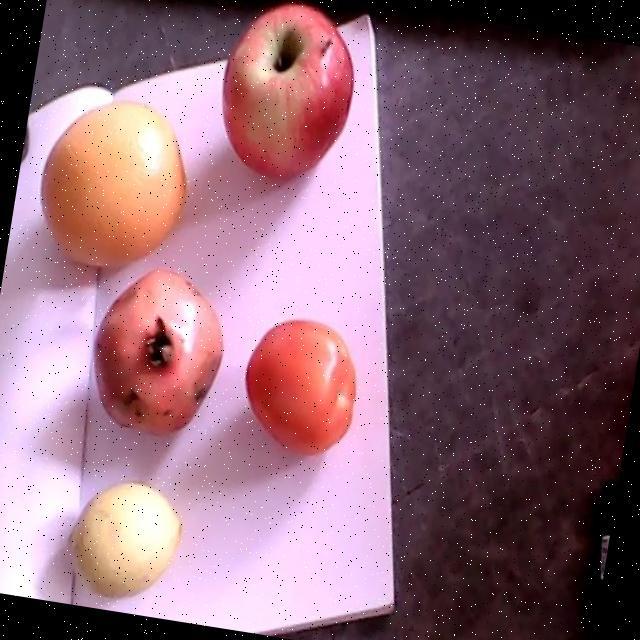apple: (223, 3, 352, 179)
lemon: (67, 482, 180, 596)
orange: (41, 102, 187, 267)
pomegranate: (94, 265, 224, 435)
tomato: (246, 320, 355, 455)
